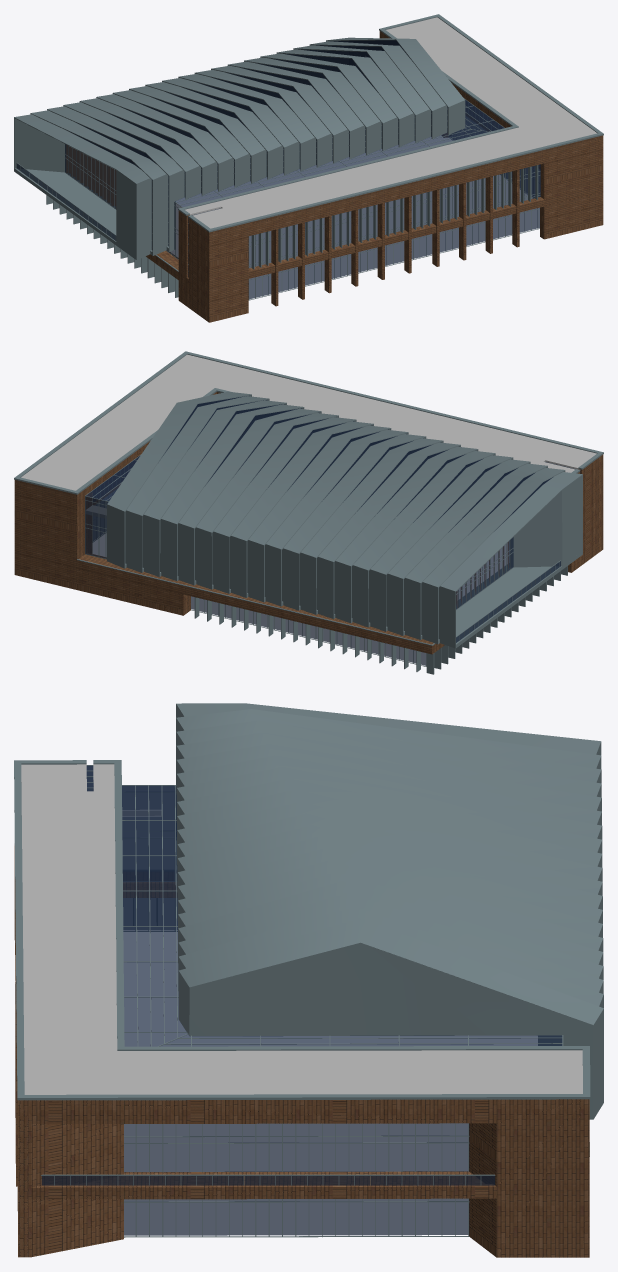
File: 图书馆.glb
3 views of the same model, one above another, from view 1: azimuth 30°, elevation 25°; view 2: azimuth 150°, elevation 25°; view 3: azimuth 270°, elevation 25° (orthographic). The views are drawn at different scales.
Visible parts, largest first — view 1: 图书馆; view 2: 图书馆; view 3: 图书馆.
Boxes of the visible parts, x1,y1,x2,y2 form: 图书馆: (14,14,603,322); 图书馆: (14,351,603,674); 图书馆: (14,703,603,1257).
Size of the model in its own units: 65.97 by 21.04 by 45.56.
5 materials, 2 textured.
